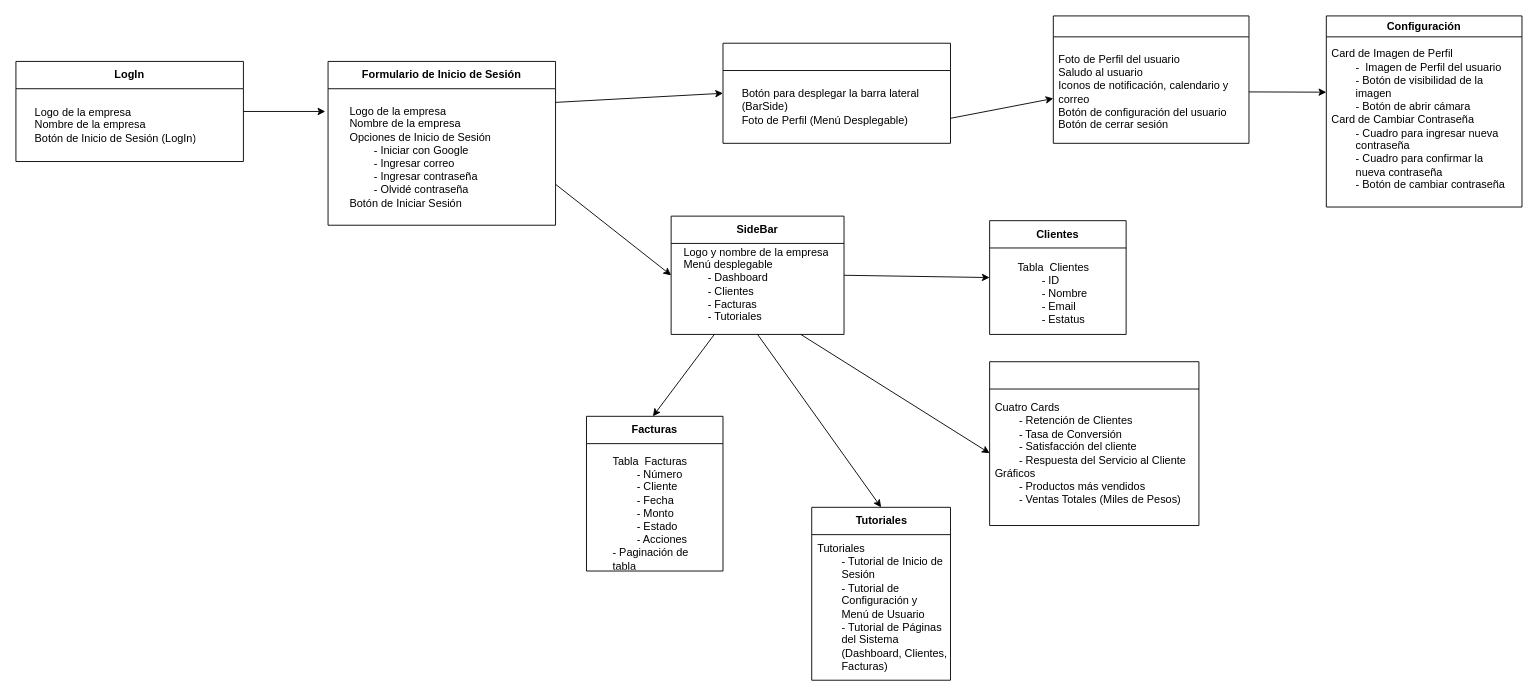
The diagram is 1538 pixels wide and 696 high, and some of its shapes have lost their labels. Here are the shapes that lost their labels. From the top down, the box of each, then its label:
(722, 42, 950, 143): TopBar
(1052, 15, 1249, 143): Menú Desplegable
(989, 361, 1199, 526): Dashboard
